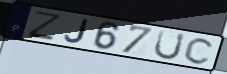6: (92, 21, 122, 52)
7: (121, 24, 155, 55)
C: (182, 36, 216, 65)
J: (63, 18, 90, 44)
U: (152, 29, 187, 61)
Z: (26, 10, 64, 41)
